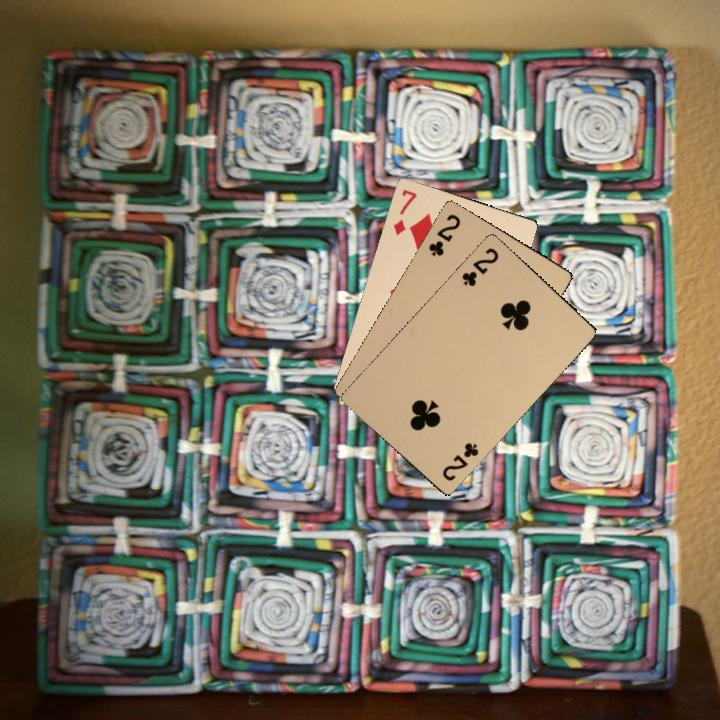2c: (438, 438, 481, 484), (458, 244, 501, 289), (424, 210, 463, 259)
7d: (389, 185, 420, 238)
